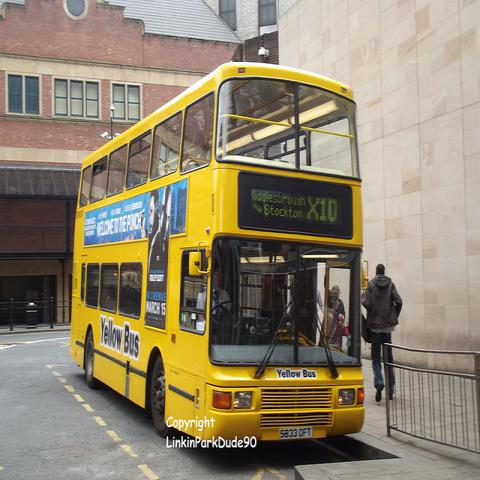bus: (70, 59, 370, 449)
